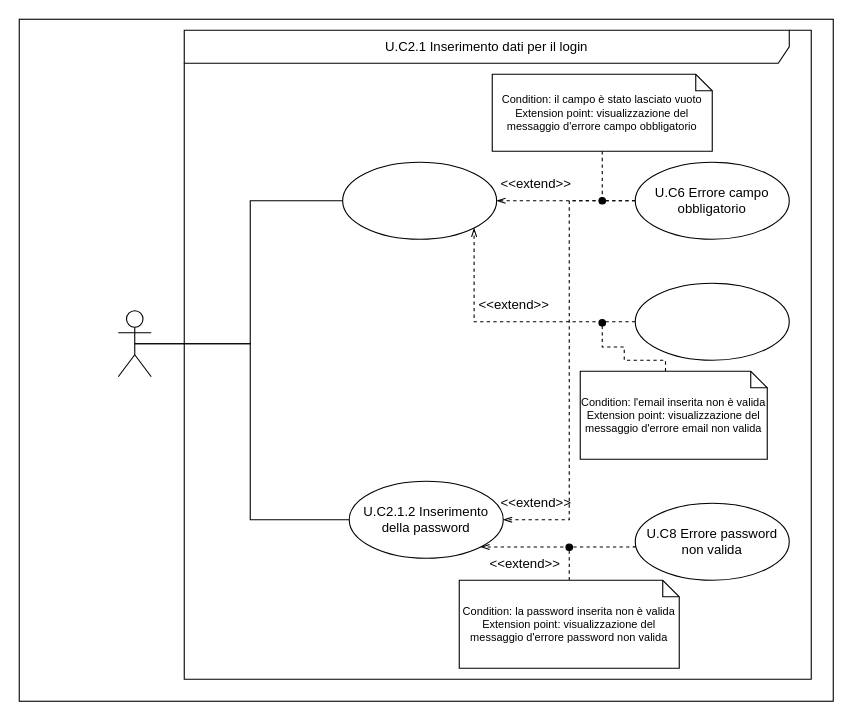
Some shapes in this 853 by 721 pixel diagram are drawn without their labels. The shapes that lost their labels are listed below. From the top down, each one's centre as x and y in pixels, then its label:
At (x=419, y=200): "U.C2.1.1 Inserimento della email".
At (x=711, y=321): "U.C7 Errore email non valida".
At (x=134, y=343): "Utente non autenticato".
